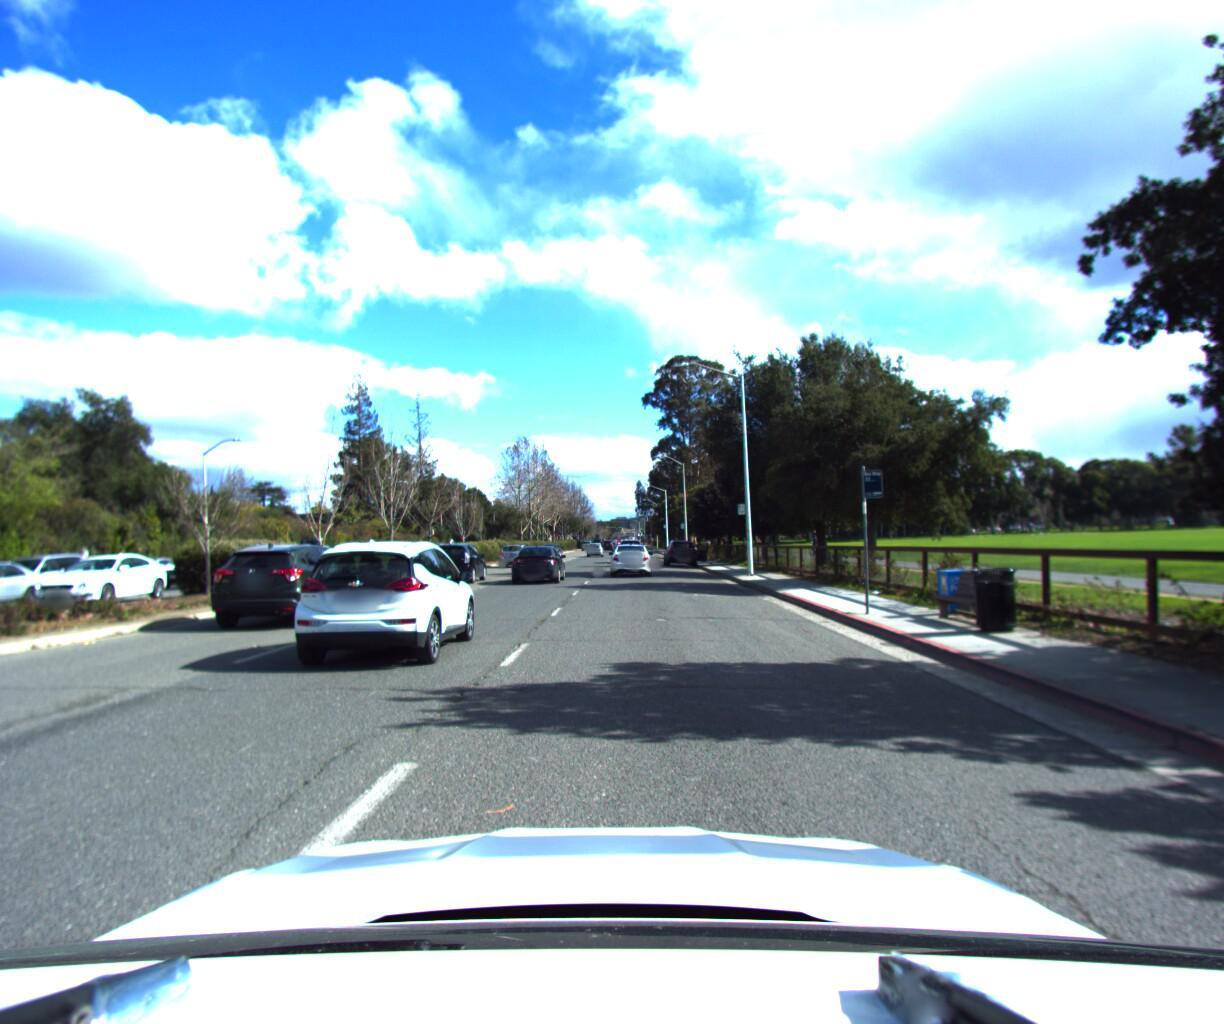car: (292, 538, 488, 685), (210, 541, 378, 636), (26, 554, 177, 615), (0, 557, 107, 610), (0, 564, 57, 621), (424, 545, 493, 589), (510, 542, 567, 589), (609, 537, 654, 580), (660, 542, 702, 573), (492, 543, 534, 573), (584, 542, 602, 557)
